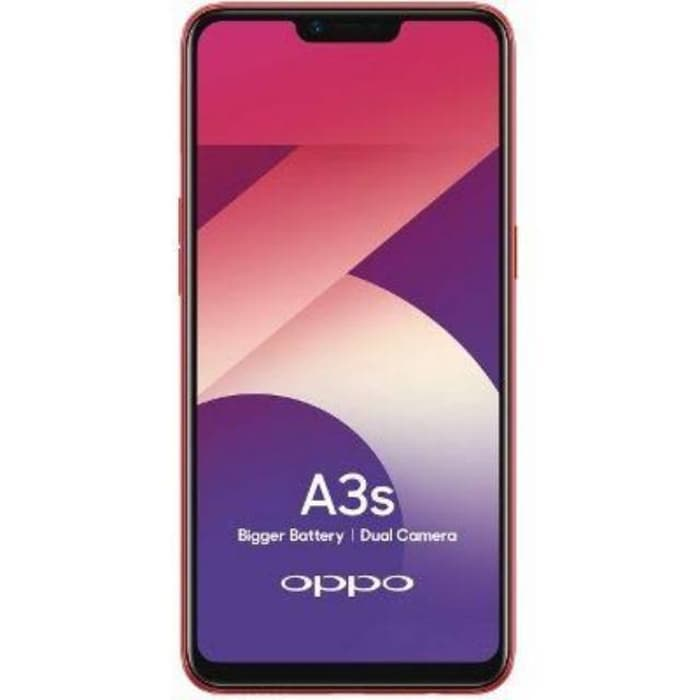Handphone: (174, 3, 519, 699)
